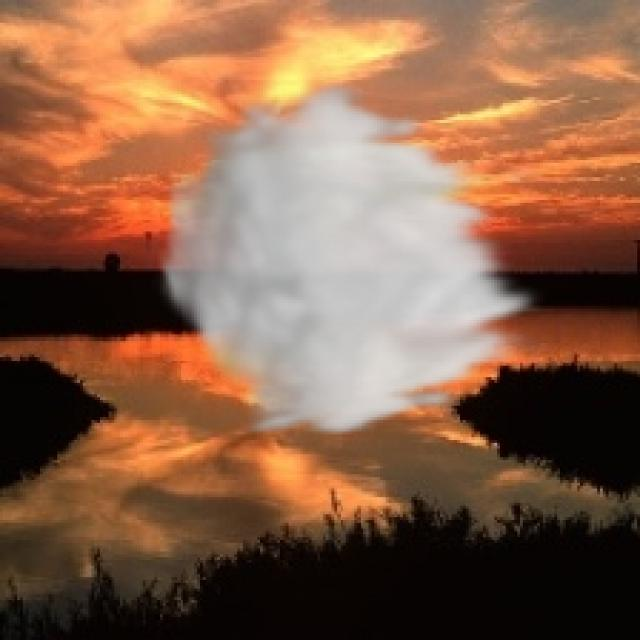smoke: (152, 77, 552, 440)
